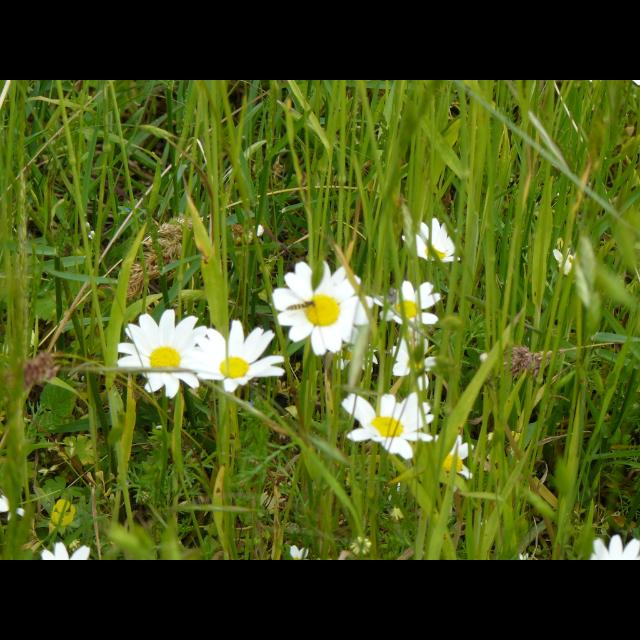Flower: (272, 258, 372, 354), (120, 310, 204, 396), (193, 319, 284, 391), (344, 394, 434, 456), (374, 280, 442, 328), (405, 220, 461, 264), (394, 337, 436, 387), (446, 434, 474, 478), (589, 536, 639, 560), (40, 544, 90, 560), (0, 495, 26, 519), (554, 248, 578, 274), (290, 546, 306, 560)
